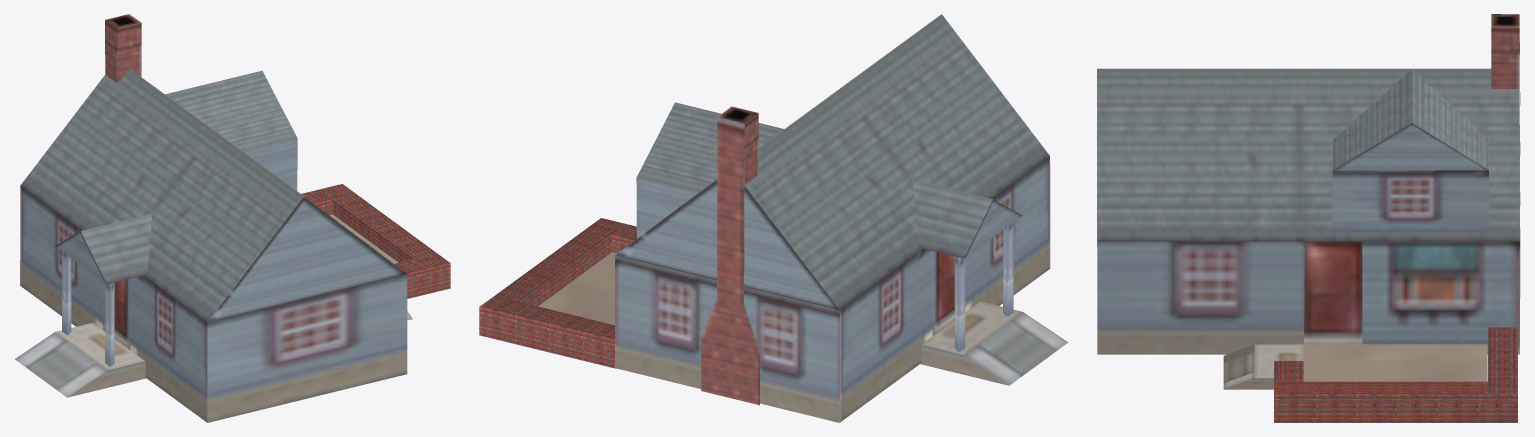
File: house01.glb
The picture shows the model from 3 angles, left to right: view 1: azimuth 30°, elevation 25°; view 2: azimuth 150°, elevation 25°; view 3: azimuth 270°, elevation 25°; orthographic projection. The views are drawn at different scales.
Parts seen in each view (by area): view 1: house01; view 2: house01; view 3: house01.
Boxes of the visible parts, x1,y1,x2,y2 form: house01: (15, 14, 450, 422); house01: (479, 14, 1067, 422); house01: (1097, 14, 1520, 422).
Bounding box in the file's own units: 2037 × 1203 × 1657.
3 materials, 3 textured.
